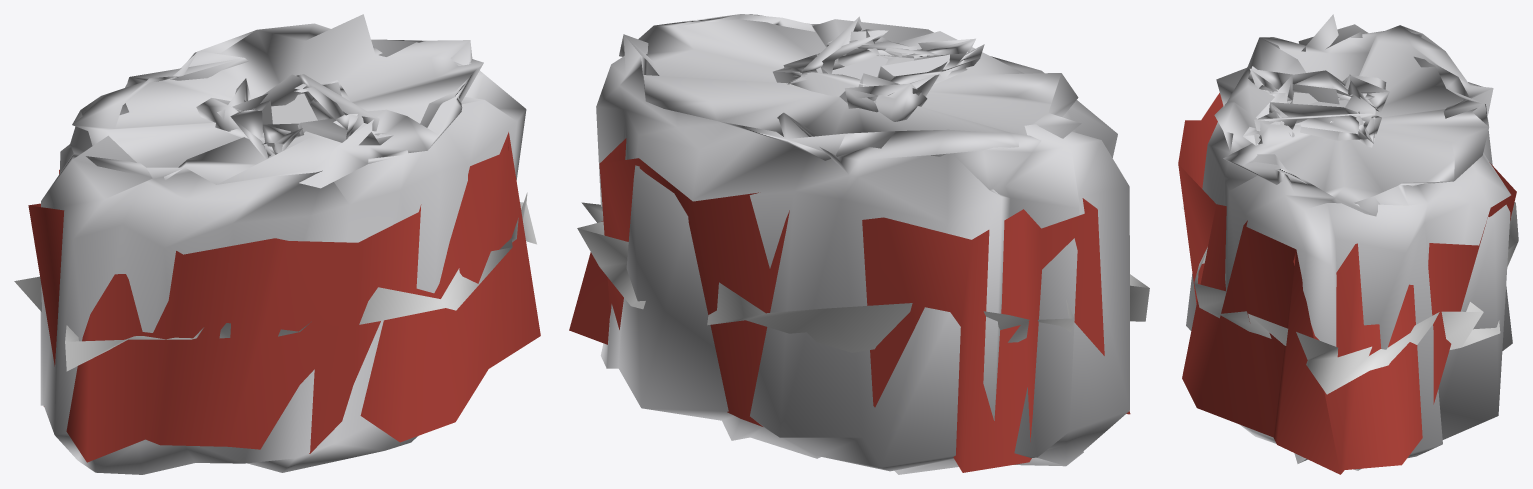
The model's file is item_can_crushed.fbx.
3 renders of one model, left to right at view 1: azimuth 30°, elevation 25°; view 2: azimuth 150°, elevation 25°; view 3: azimuth 270°, elevation 25°, orthographic. The views are drawn at different scales.
Parts seen in each view (by area): view 1: item_can_crushed; view 2: item_can_crushed; view 3: item_can_crushed.
Boxes of the visible parts, x1,y1,x2,y2 form: item_can_crushed: (14,14,540,474); item_can_crushed: (569,14,1149,474); item_can_crushed: (1178,14,1518,474).
Bounding box in the file's own units: 0.0842 × 0.0546 × 0.055.
